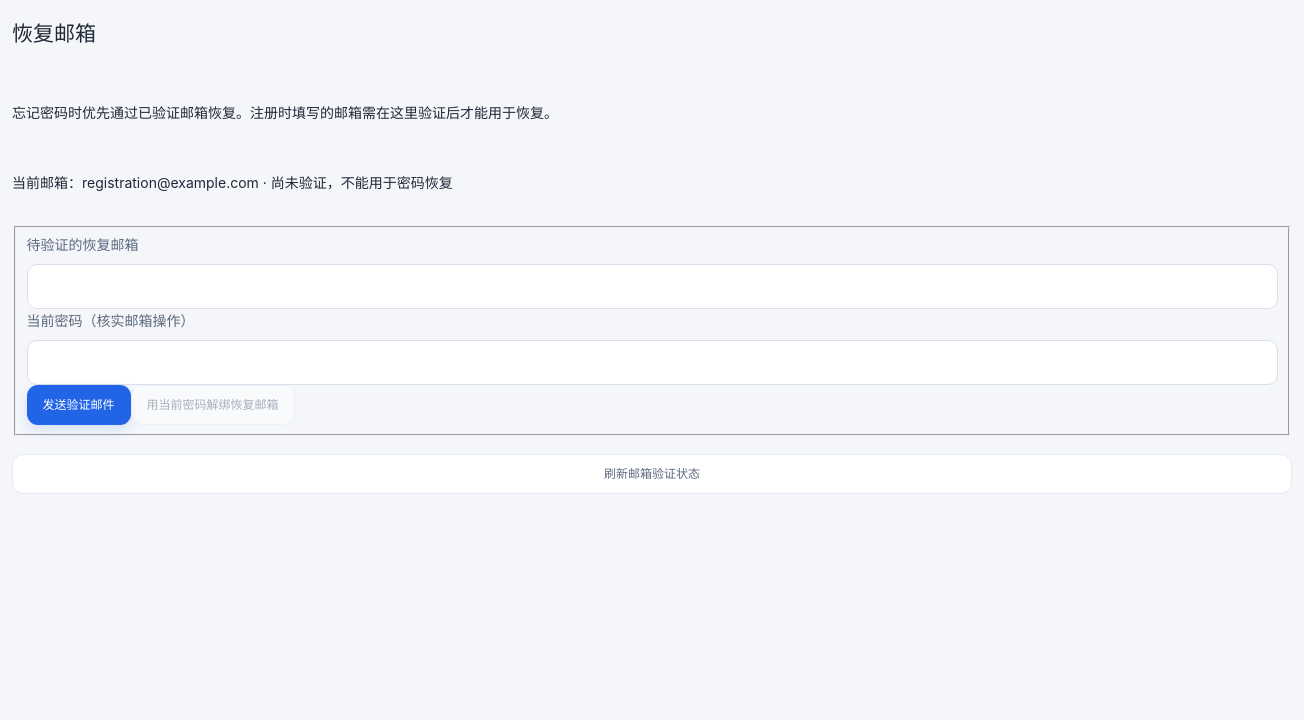
Test: clears current password after verification request and separates verified from registration email
Check: the text "当前邮箱：registration@example.com · 尚未验证，不能用于密码恢复" is shown, box [12,174,453,191]
Type "new@example.com" into the field labelled "待验证的恢复邮箱". click: point(652, 286)
box: [26,264,1278,309]
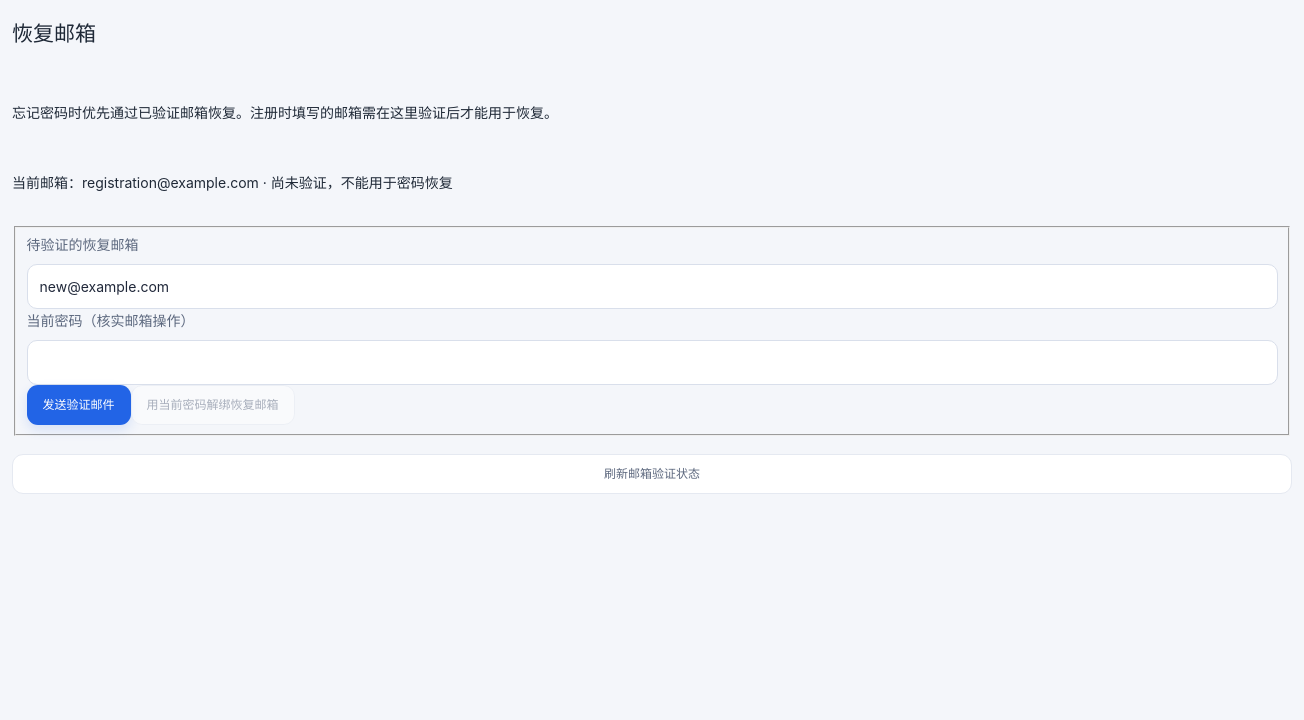
Type "private-password" into the password field labelled "当前密码（核实邮箱操作）". click: point(652, 362)
box: [26,340,1278,385]
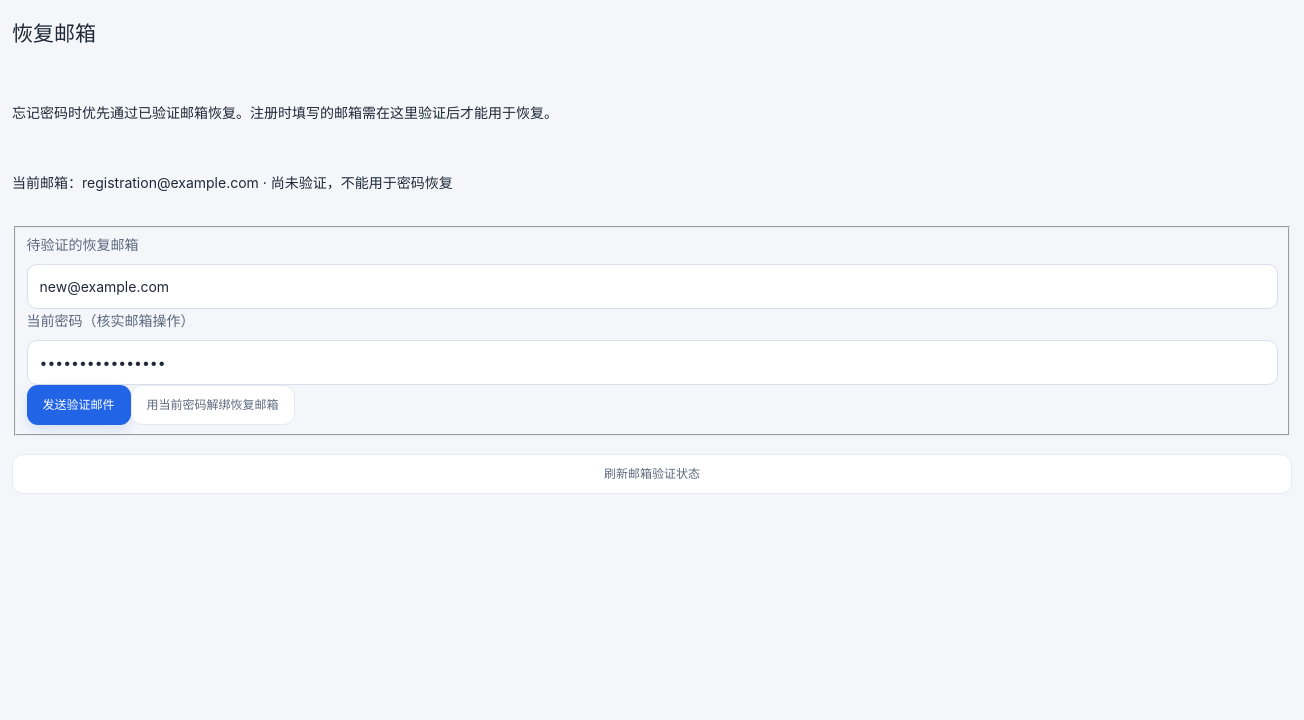
Submit the form "发送验证邮件", box [12,226,1292,436]
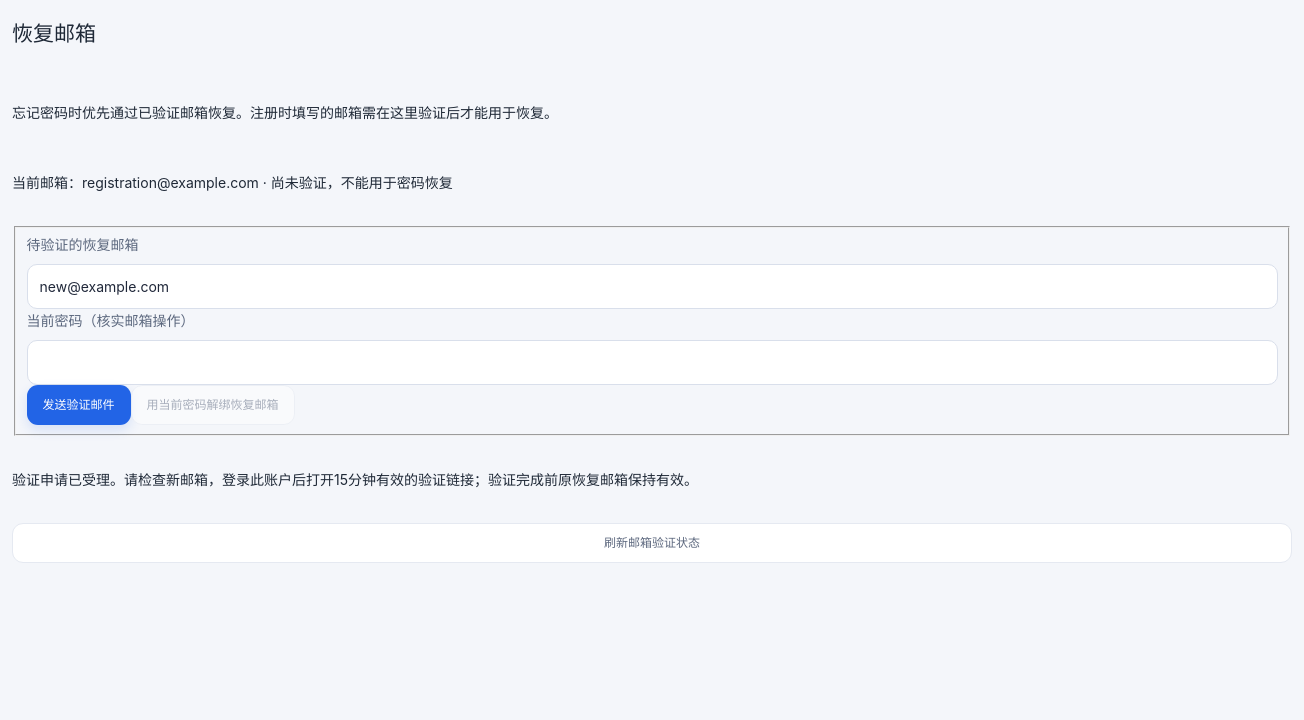
Check: the text "验证申请已受理。请检查新邮箱，登录此账户后打开15分钟有效的验证链接；验证完成前原恢复邮箱保持有效。" is shown, box [12,471,698,488]
Check: the password field labelled "当前密码（核实邮箱操作）" is empty, box [26,340,1278,385]
